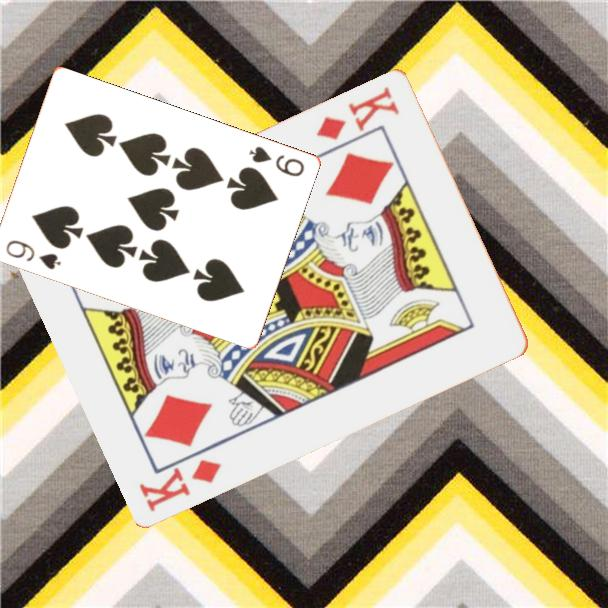d13: (313, 82, 403, 143), (136, 455, 225, 515)
s09: (245, 143, 307, 180), (2, 237, 63, 273)
